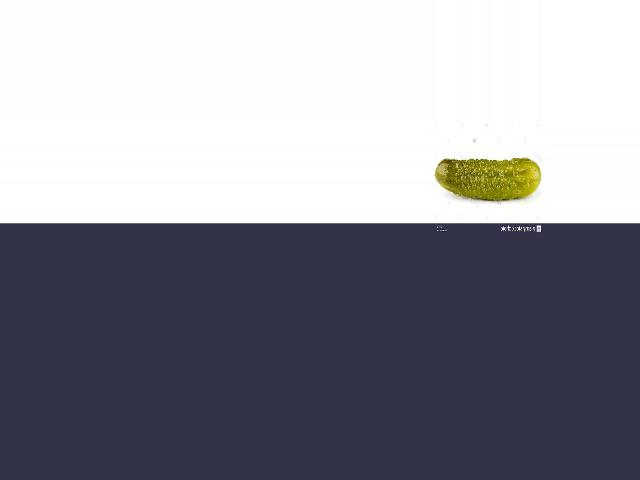cucumber: (433, 158, 540, 201)
